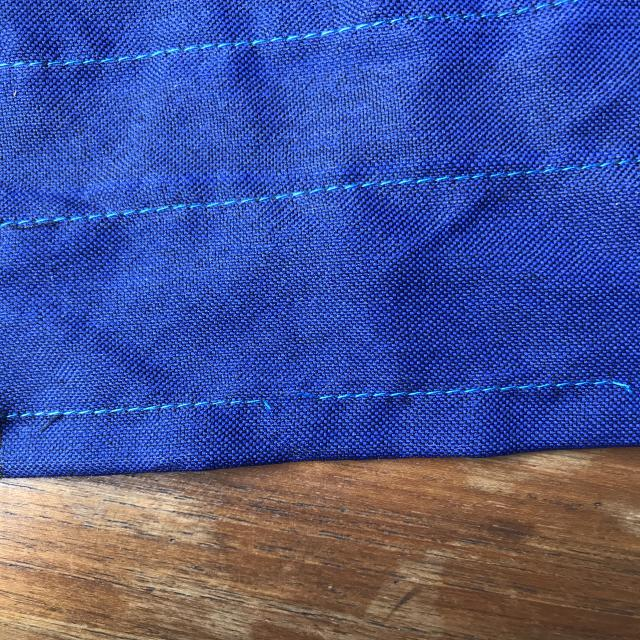broken: (238, 383, 344, 422)
good: (195, 182, 320, 212)
